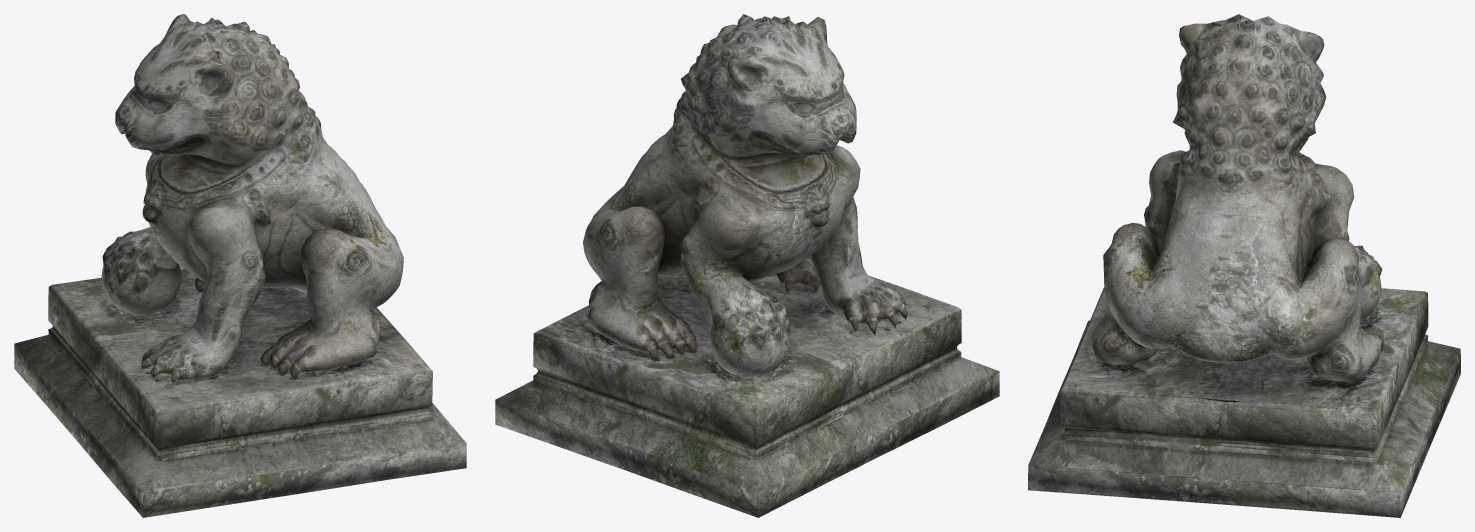
The model's file is komainu_stone.glb.
3 views of the same model, side by side, from view 1: azimuth 30°, elevation 25°; view 2: azimuth 150°, elevation 25°; view 3: azimuth 270°, elevation 25° (orthographic).
Parts seen in each view (by area): view 1: Komainu_Left_Komaine_Stone_0, Stelle_Left_Stelle_Stone_0; view 2: Komainu_Left_Komaine_Stone_0, Stelle_Left_Stelle_Stone_0; view 3: Komainu_Left_Komaine_Stone_0, Stelle_Left_Stelle_Stone_0.
Boxes of the visible parts, x1,y1,x2,y2 form: Komainu_Left_Komaine_Stone_0: (101,14,403,383); Stelle_Left_Stelle_Stone_0: (14,265,466,517); Komainu_Left_Komaine_Stone_0: (583,14,907,376); Stelle_Left_Stelle_Stone_0: (495,275,999,517); Komainu_Left_Komaine_Stone_0: (1091,14,1383,381); Stelle_Left_Stelle_Stone_0: (1028,287,1460,517).
Size of the model in its own units: 1.42 by 1.55 by 1.51.
Materials: 2 (2 with a texture image).
